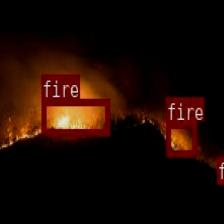fire: (41, 97, 109, 135), (166, 121, 196, 155), (215, 156, 224, 183)
